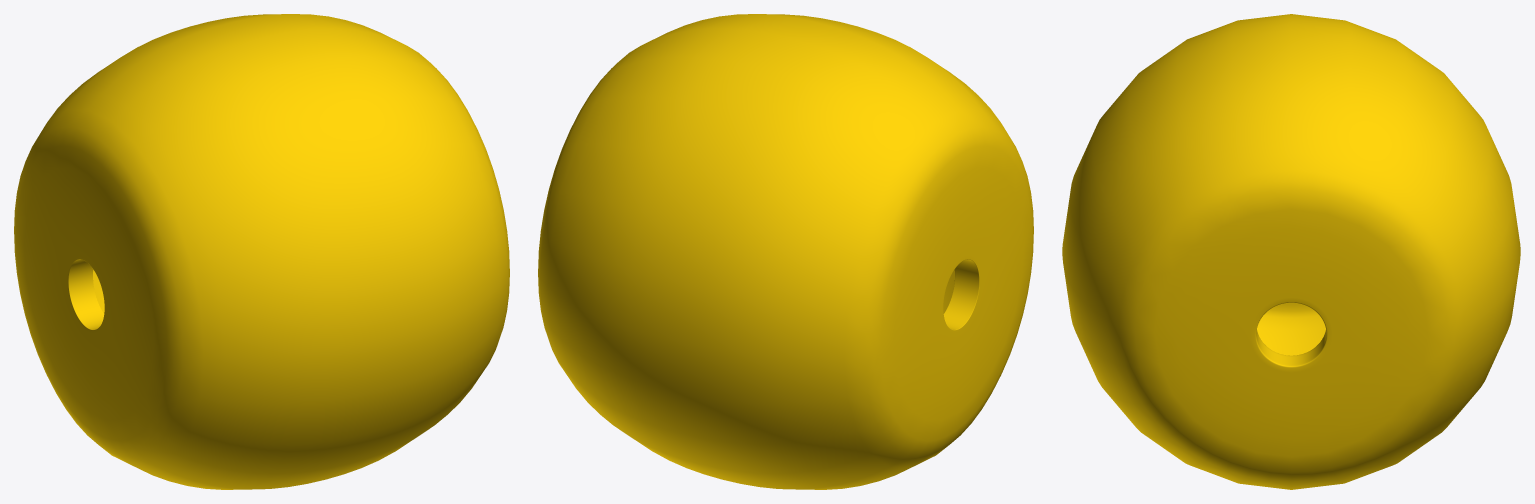
File: 磨砂珠6mm.gltf
The picture shows the model from 3 angles, left to right: view 1: azimuth 30°, elevation 25°; view 2: azimuth 150°, elevation 25°; view 3: azimuth 270°, elevation 25°; orthographic projection. The views are drawn at different scales.
Parts seen in each view (by area): view 1: 物件_430.004; view 2: 物件_430.004; view 3: 物件_430.004.
Part boxes in pixels (<box>): 物件_430.004: <box>14,14,509,489</box>; 物件_430.004: <box>538,14,1033,489</box>; 物件_430.004: <box>1062,14,1520,489</box>.
Bounding box in the file's own units: 0.006 × 0.007 × 0.007.
